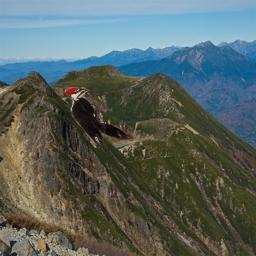Woodpecker: (63, 87, 134, 148)
